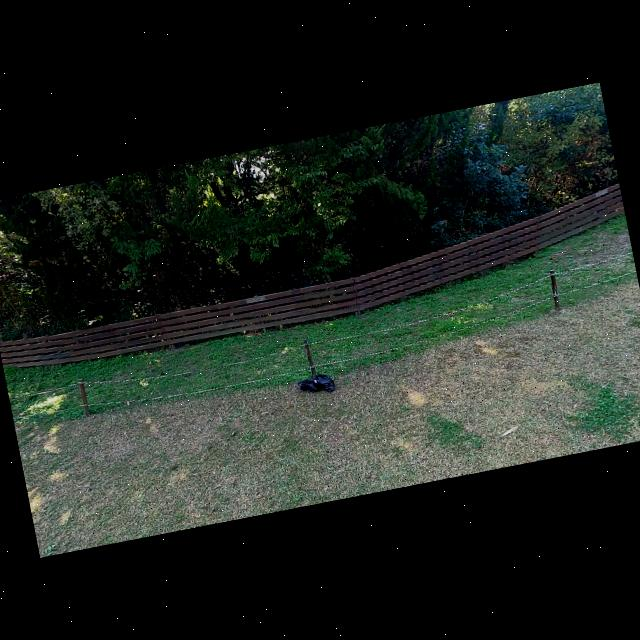trash: (309, 368, 336, 398), (294, 373, 322, 398)
